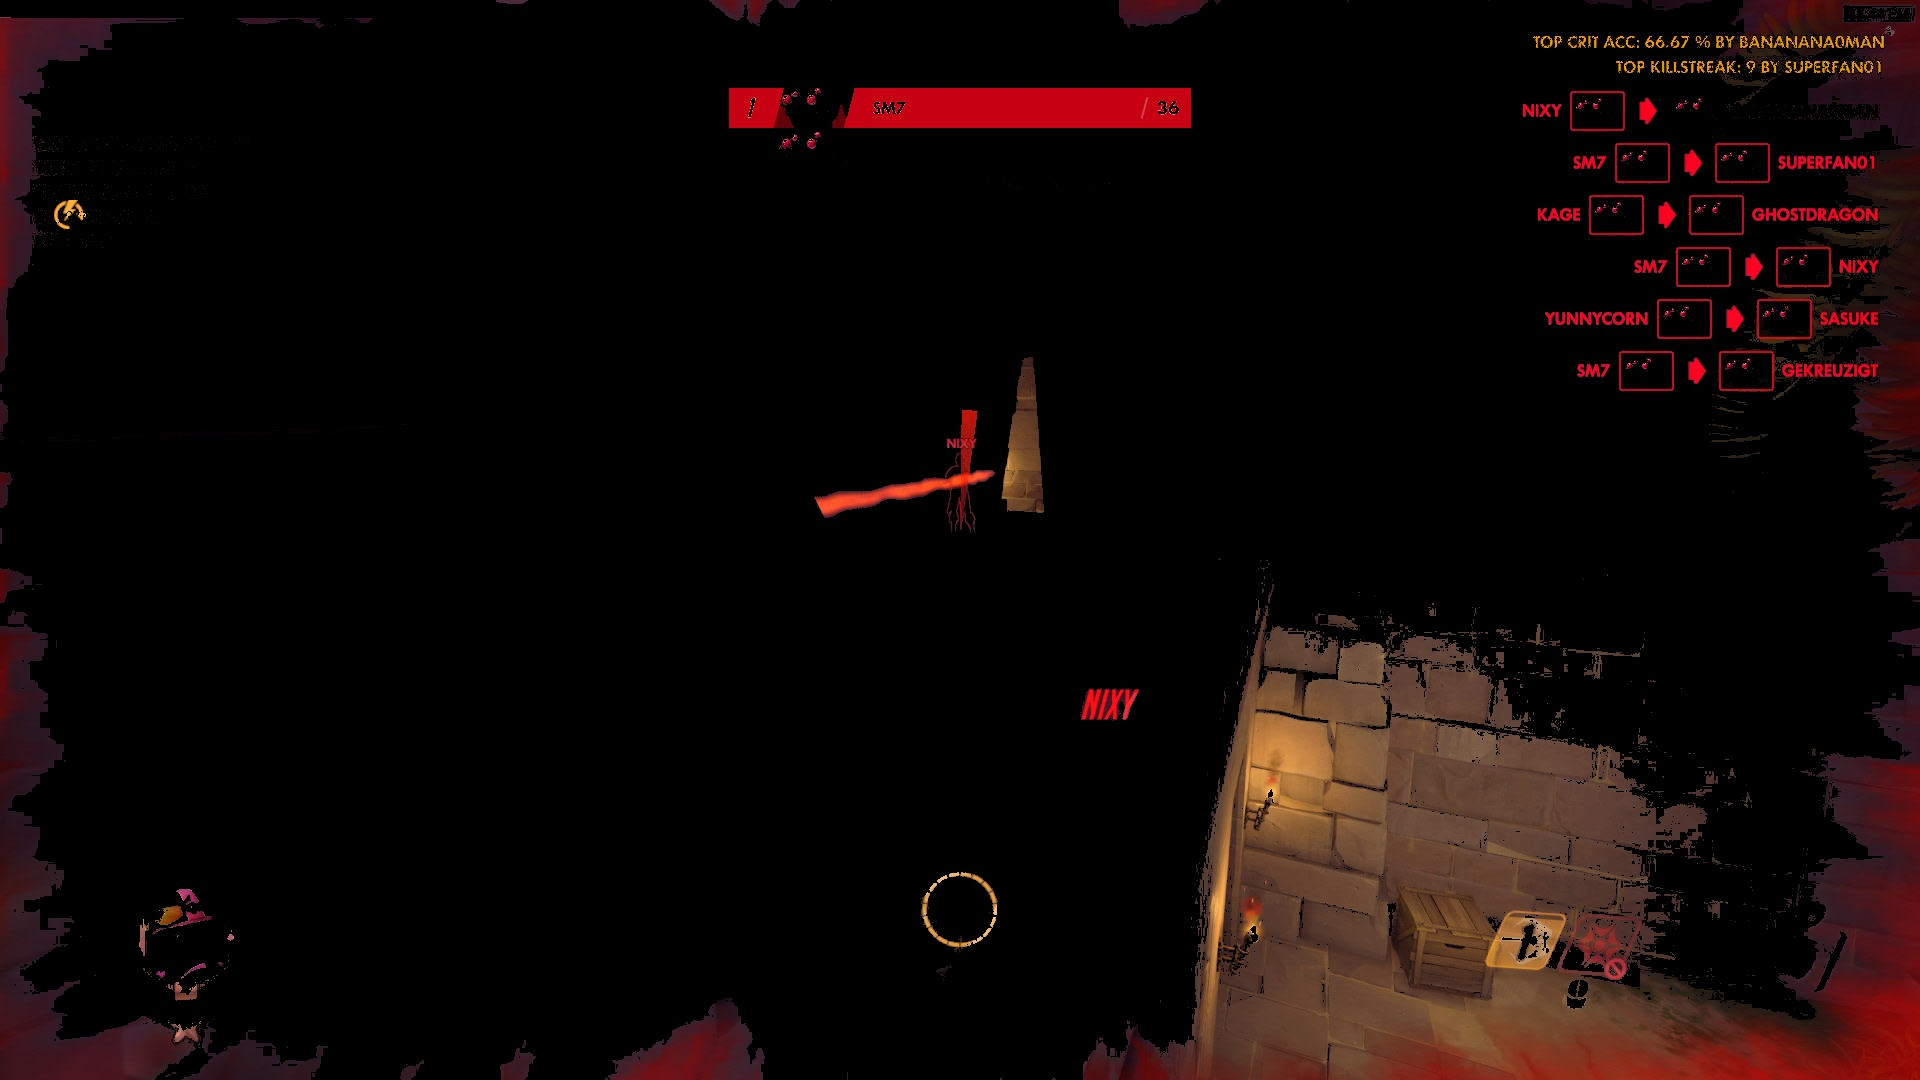widowmaker: (943, 451, 985, 545)
